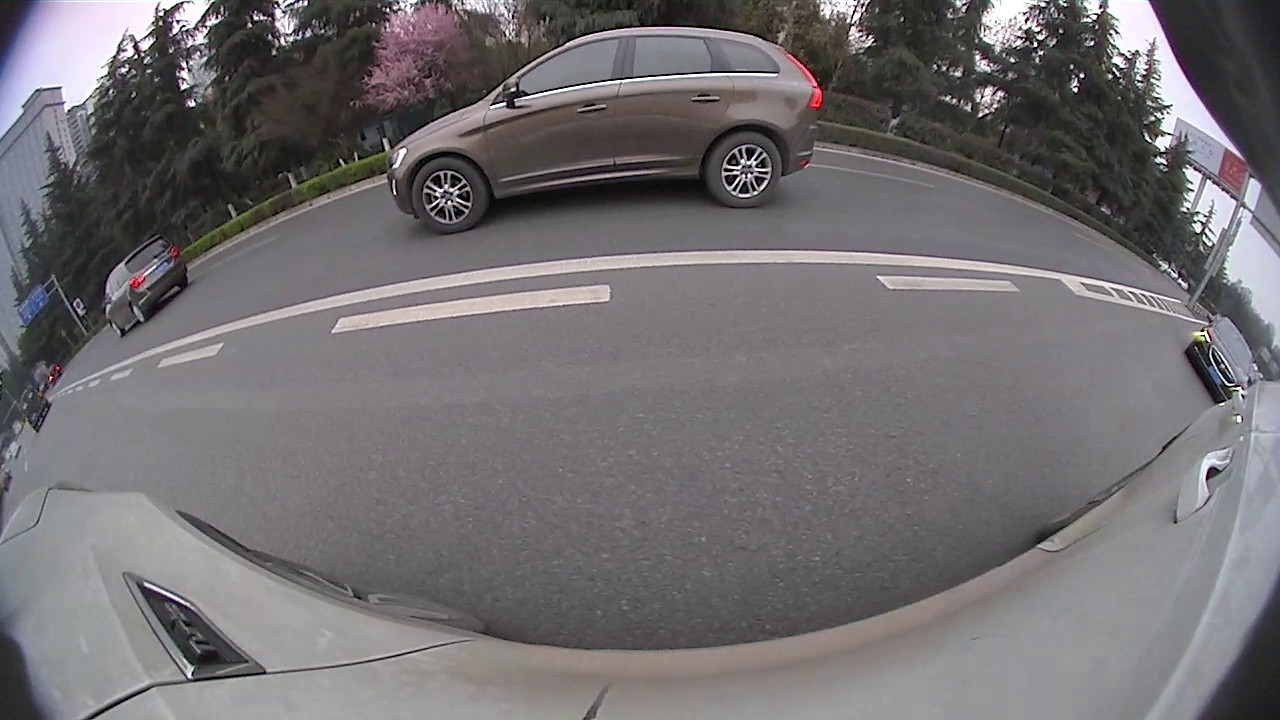bus: (881, 140, 1216, 275), (754, 113, 885, 204)
car: (1, 174, 407, 485), (1073, 253, 1279, 399), (369, 131, 538, 233), (604, 142, 691, 206), (524, 158, 577, 196), (688, 148, 728, 189)
front: (348, 227, 391, 283), (1092, 279, 1124, 314), (909, 196, 933, 222), (520, 183, 536, 210)
rear: (71, 359, 165, 472), (1038, 236, 1075, 276), (1207, 359, 1241, 401), (469, 189, 494, 231), (790, 175, 799, 198)
